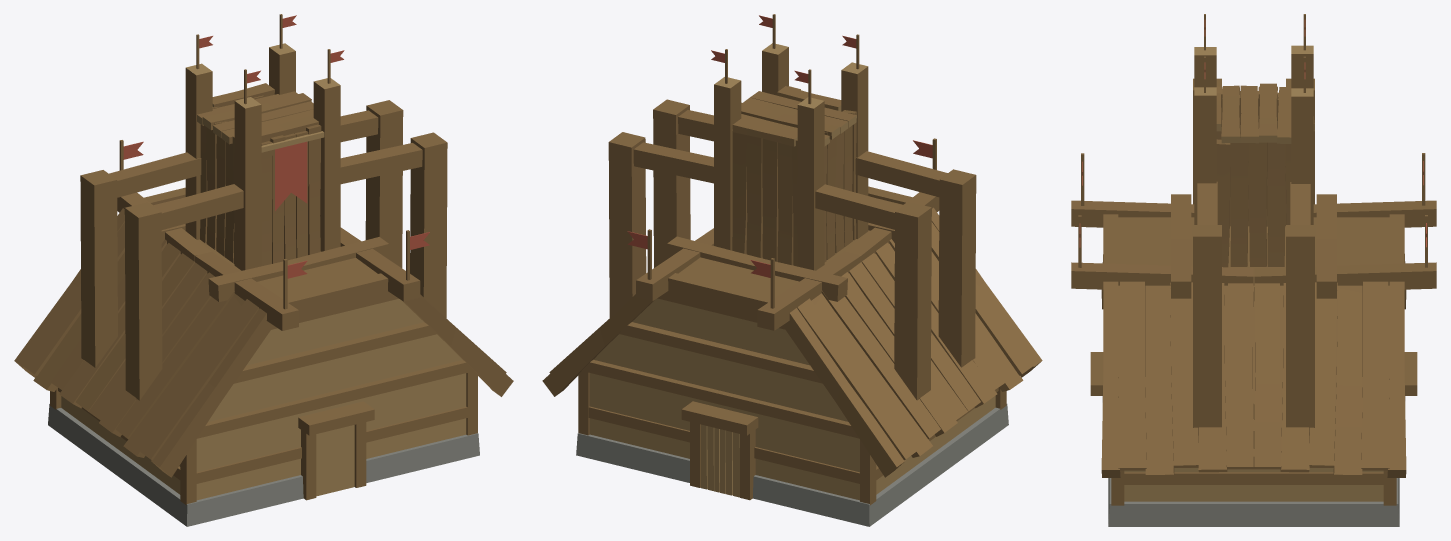
Rendered from TowerHouse_FirstAge.glb.
3 views of the same model, side by side, from view 1: azimuth 30°, elevation 25°; view 2: azimuth 150°, elevation 25°; view 3: azimuth 270°, elevation 25° (orthographic). The views are drawn at different scales.
Visible parts, largest first — view 1: TowerHouse_FirstAge; view 2: TowerHouse_FirstAge; view 3: TowerHouse_FirstAge.
Part boxes in pixels (x1,y1,x2,y2): TowerHouse_FirstAge: (14, 14, 513, 526); TowerHouse_FirstAge: (542, 14, 1042, 526); TowerHouse_FirstAge: (1071, 14, 1436, 526).
Bounding box in the file's own units: 1.39 × 1.47 × 1.17.
